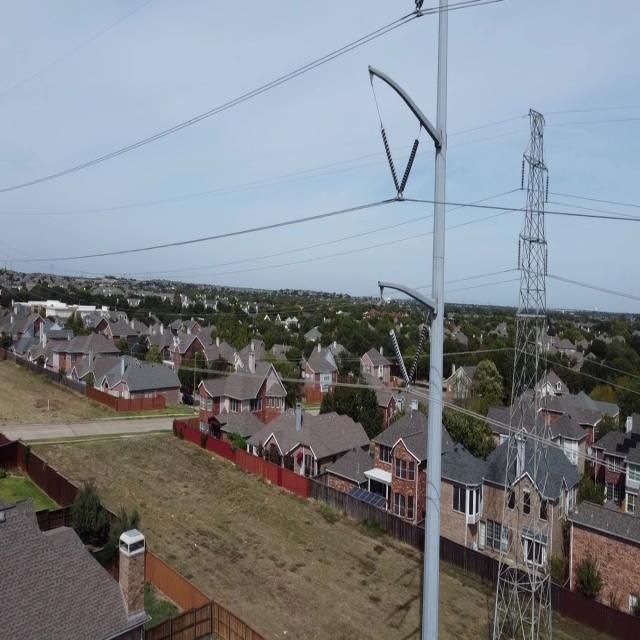杆塔: (487, 105, 562, 640)
正常电缆: (0, 4, 403, 213), (0, 190, 396, 281), (564, 359, 640, 402), (559, 272, 640, 308), (445, 396, 500, 433), (563, 208, 640, 224)
正常绝缘子: (386, 319, 432, 396), (379, 124, 425, 199), (543, 164, 552, 208), (519, 153, 527, 199), (542, 241, 551, 279), (515, 233, 523, 274)
